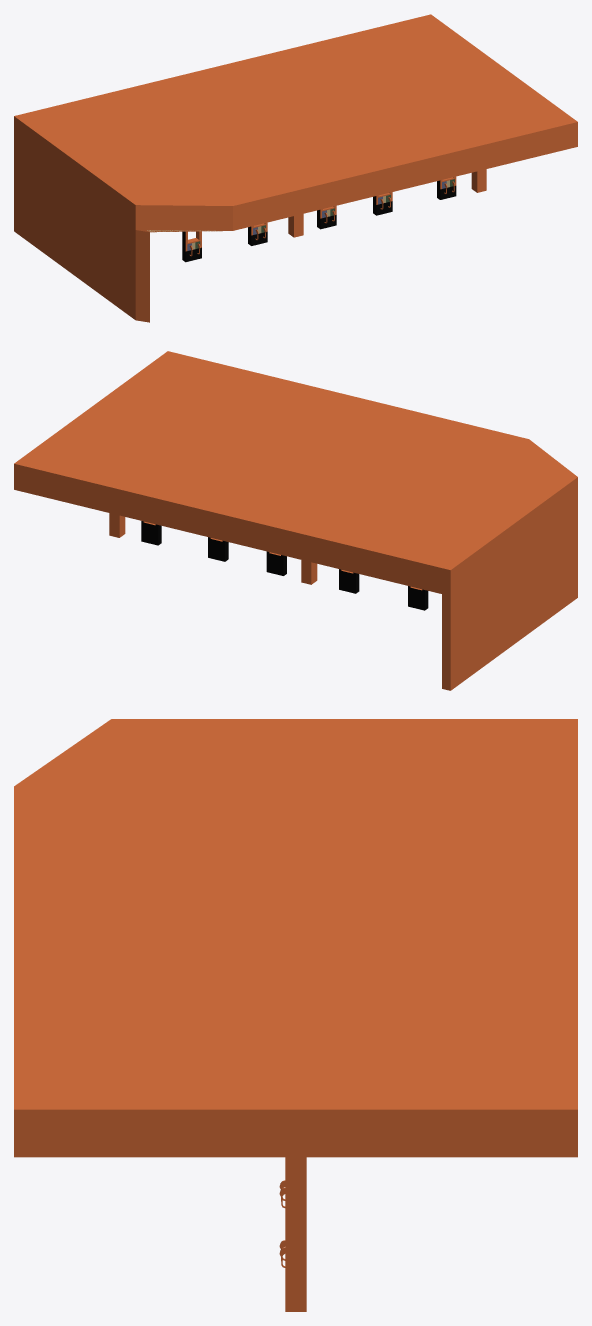
Rendered from posto_1.fbx.
3 renders of one model, top to bottom at view 1: azimuth 30°, elevation 25°; view 2: azimuth 150°, elevation 25°; view 3: azimuth 270°, elevation 25°, orthographic. The views are drawn at different scales.
Parts seen in each view (by area): view 1: Cube; view 2: Cube; view 3: Cube.
Boxes of the visible parts, x1,y1,x2,y2 form: Cube: [14, 14, 577, 322]; Cube: [14, 351, 577, 690]; Cube: [14, 719, 577, 1311].
Bounding box in the file's own units: 3507 × 928 × 2141.
